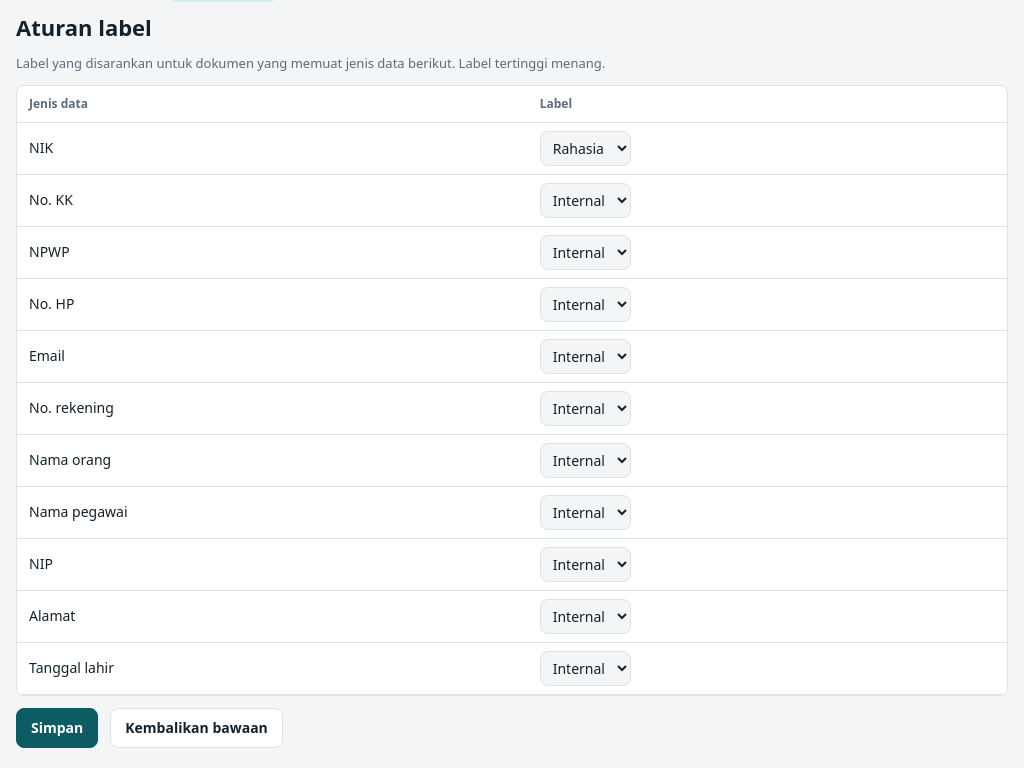
Test case: label rules 422 shows server message
(page scrolled)
Expected: the dropdown named "Label NIK" is shown, [540,131,631,166]
Step 1. Click the button "Simpan" → (57, 728), box [16,708,98,748]
(page scrolled)
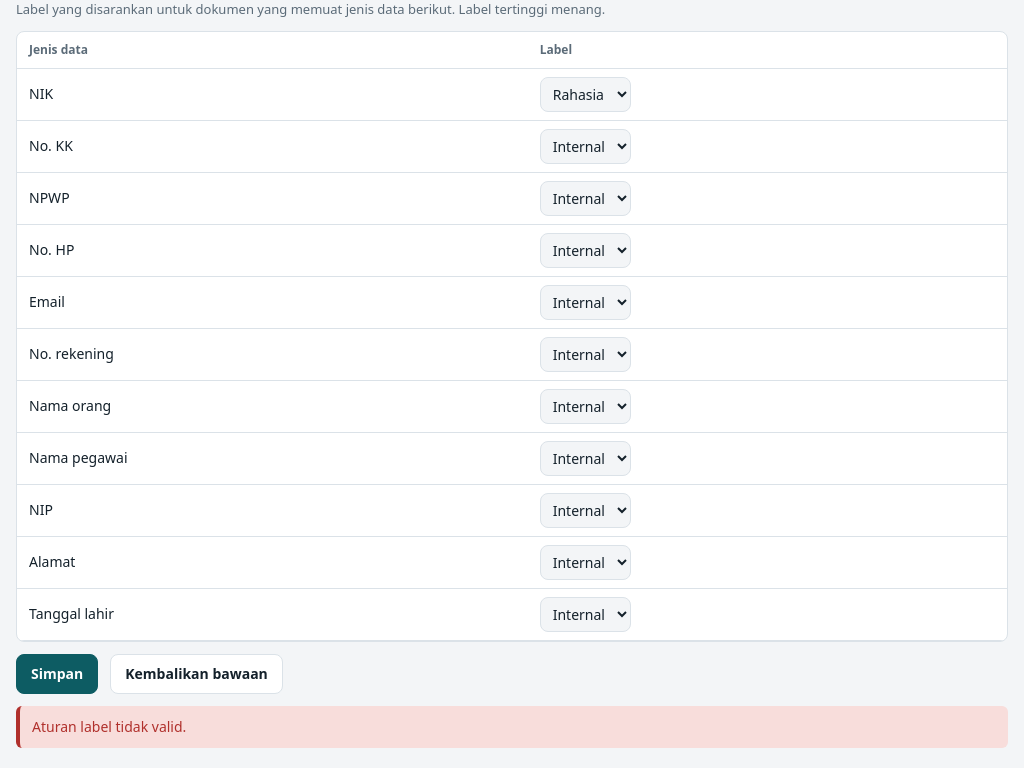
Now the message reads "Aturan label tidak valid.", box [32,717,186,736]
